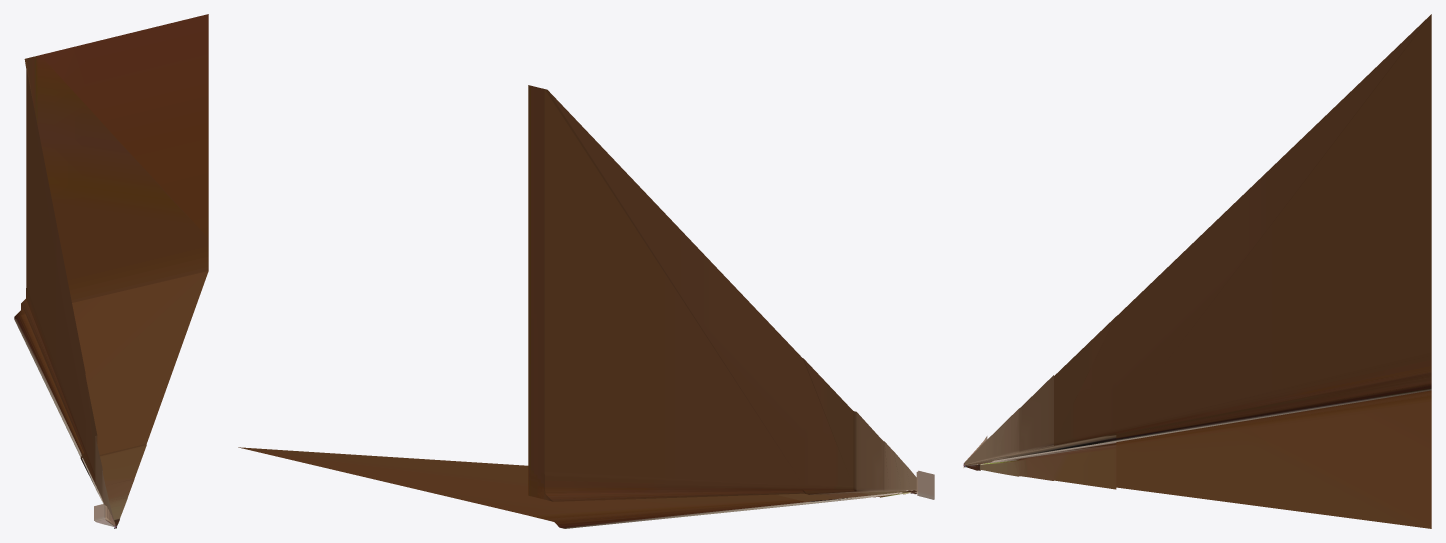
The picture shows the model from 3 angles, left to right: view 1: azimuth 30°, elevation 25°; view 2: azimuth 150°, elevation 25°; view 3: azimuth 270°, elevation 25°; orthographic projection. The views are drawn at different scales.
Size of the model in its own units: 251 by 307 by 259.
Materials: 2 (2 with a texture image).
